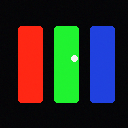0 point: (71, 55, 77, 61)
